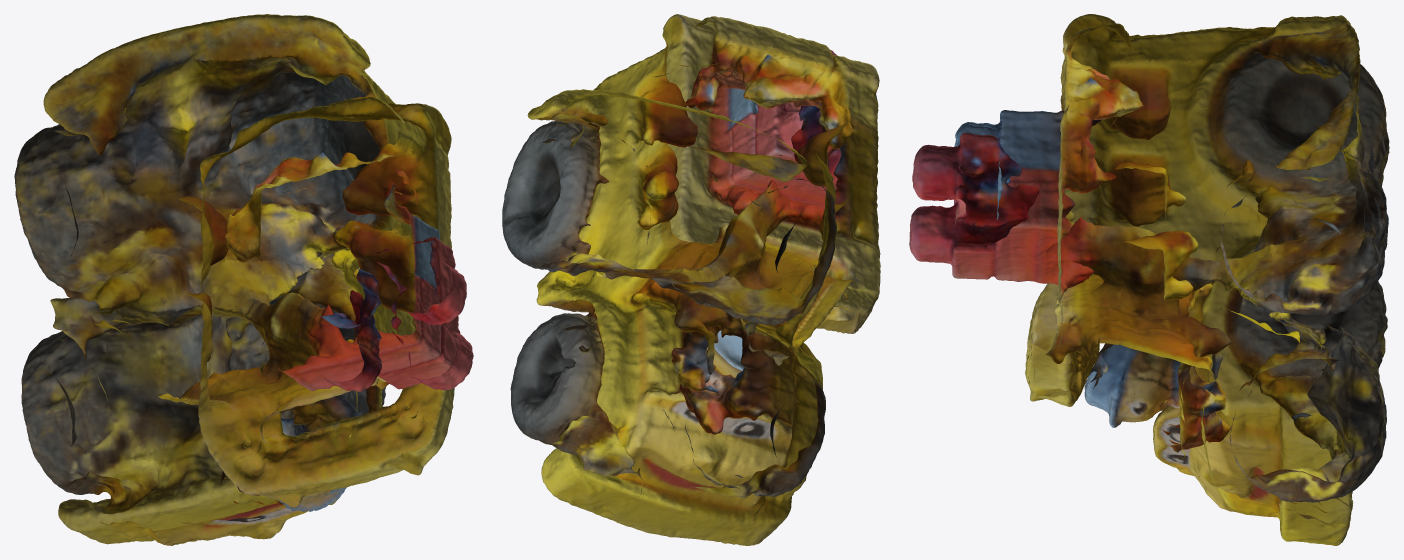
Rendered from school_bus2.glb.
3 views of the same model, side by side, from view 1: azimuth 30°, elevation 25°; view 2: azimuth 150°, elevation 25°; view 3: azimuth 270°, elevation 25° (orthographic). The views are drawn at different scales.
Bounding box in the file's own units: 0.6818 × 0.9998 × 0.9561.
